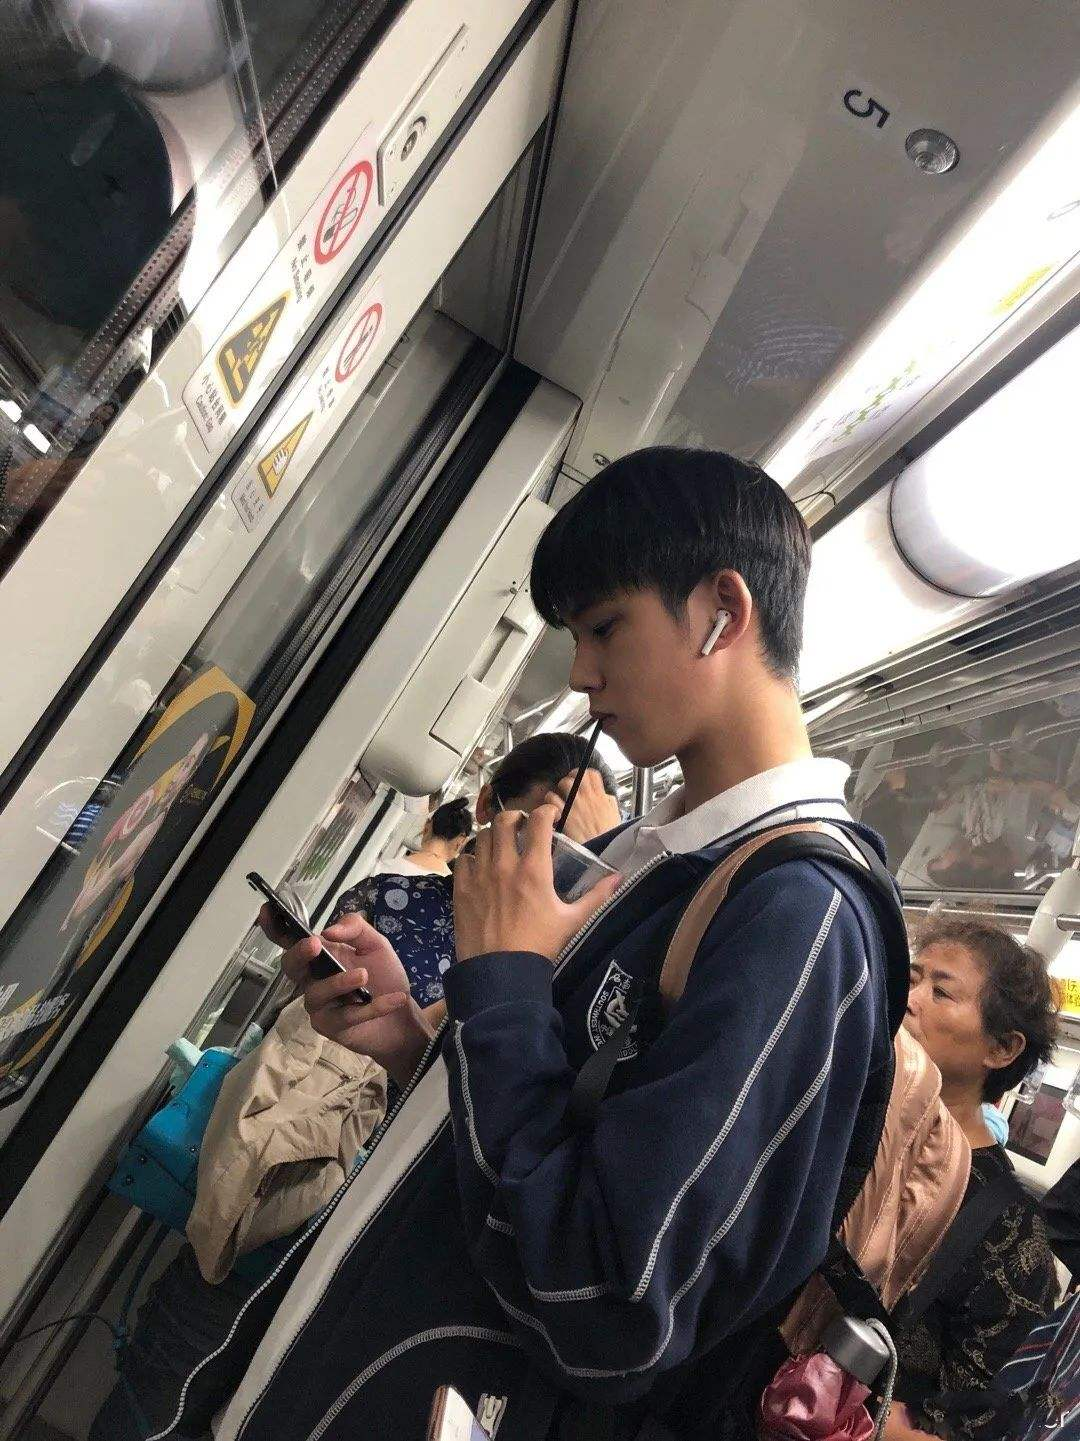person: (378, 400, 864, 1306)
